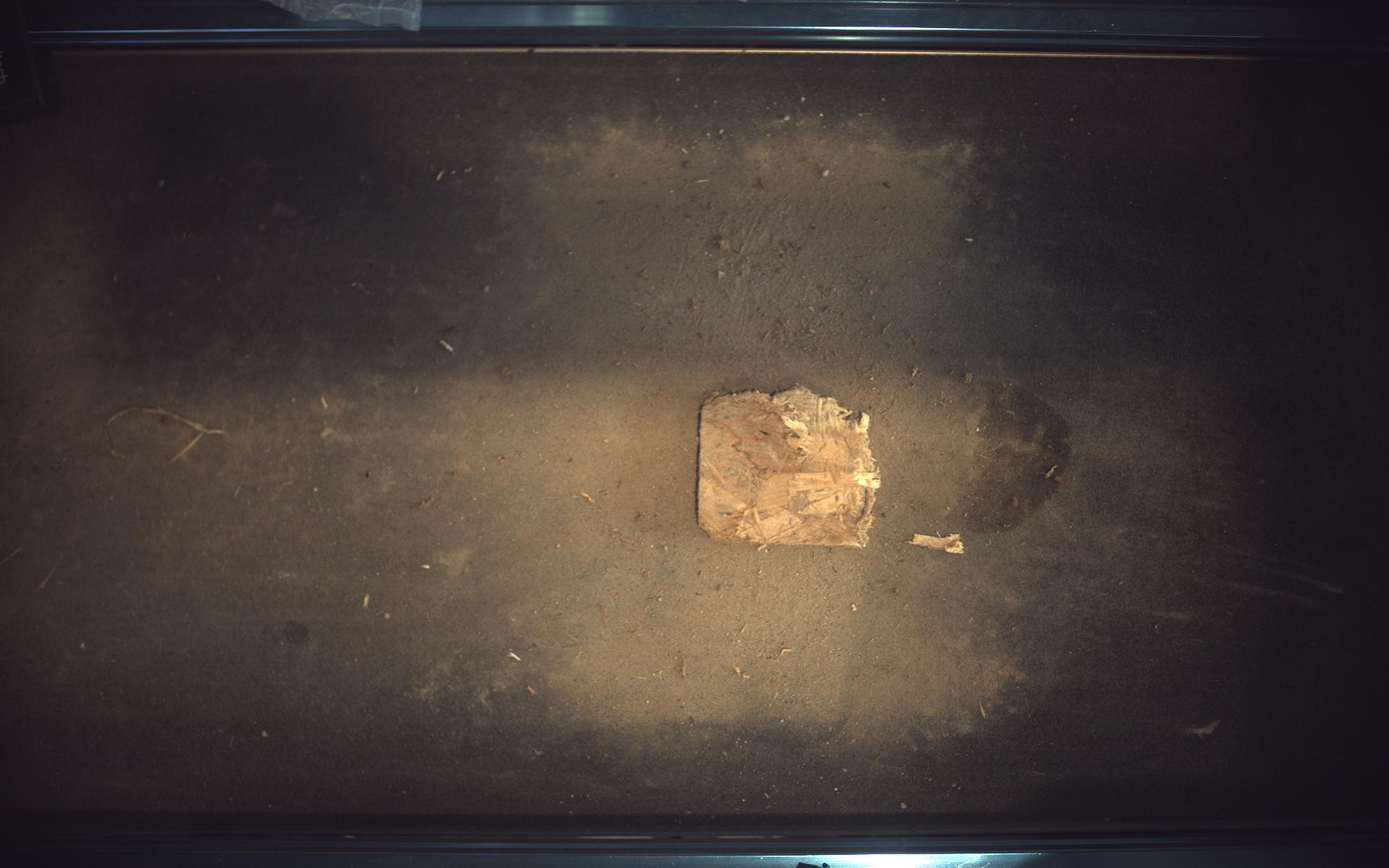wood: (699, 386, 882, 548)
